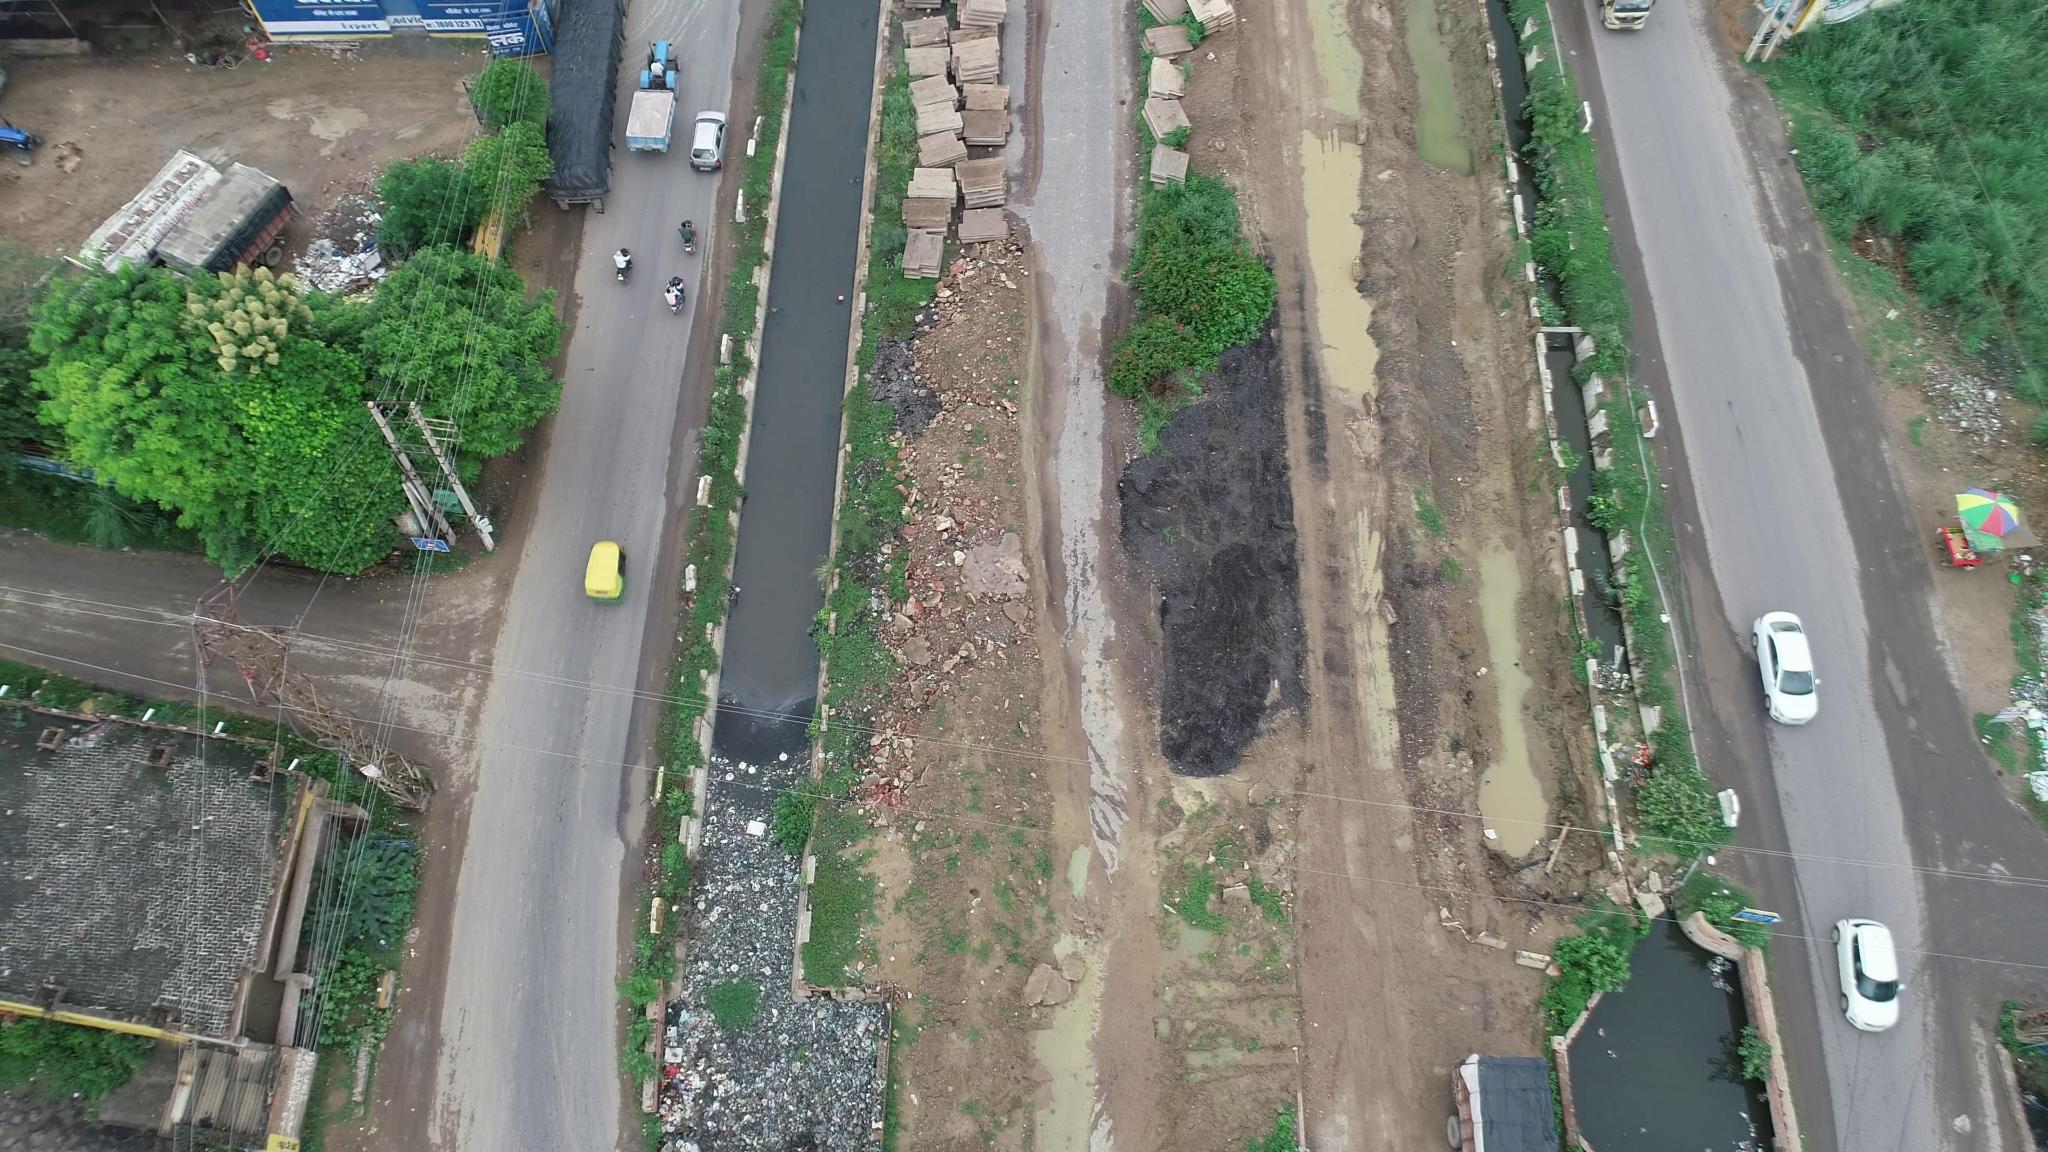Potholes: (1875, 633, 1945, 776), (1822, 333, 1857, 385)
